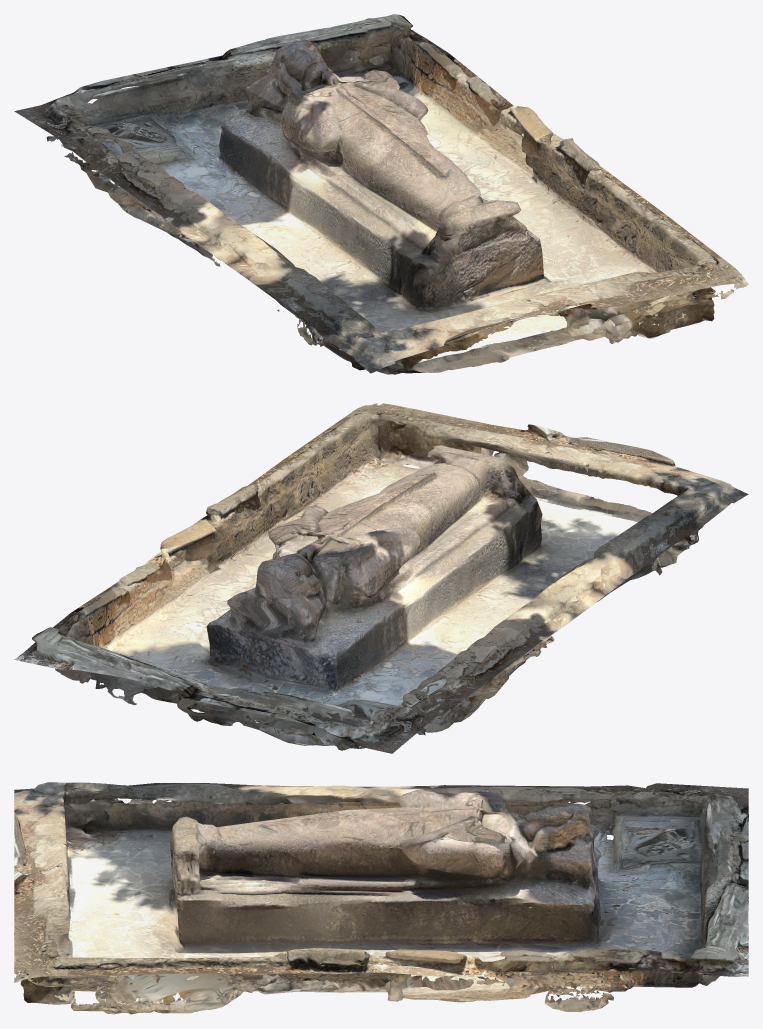
Rendered from reclining_figure_-_byrsa_hill_carthage_-_opt.glb.
The picture shows the model from 3 angles, top to bottom: view 1: azimuth 30°, elevation 25°; view 2: azimuth 150°, elevation 25°; view 3: azimuth 270°, elevation 25°; orthographic projection. The views are drawn at different scales.
Visible parts, largest first — view 1: Object_3; view 2: Object_3; view 3: Object_3.
Boxes of the visible parts, <box> form: Object_3: <box>14,14,748,374</box>; Object_3: <box>14,403,748,753</box>; Object_3: <box>14,782,748,1014</box>.
Bounding box in the file's own units: 3.38 × 1.06 × 5.51.
1 material, 1 textured.
